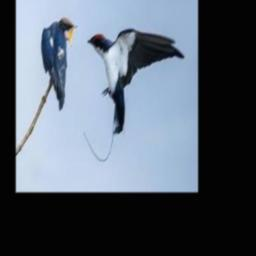Swallow: (87, 28, 184, 134), (41, 17, 77, 110)
